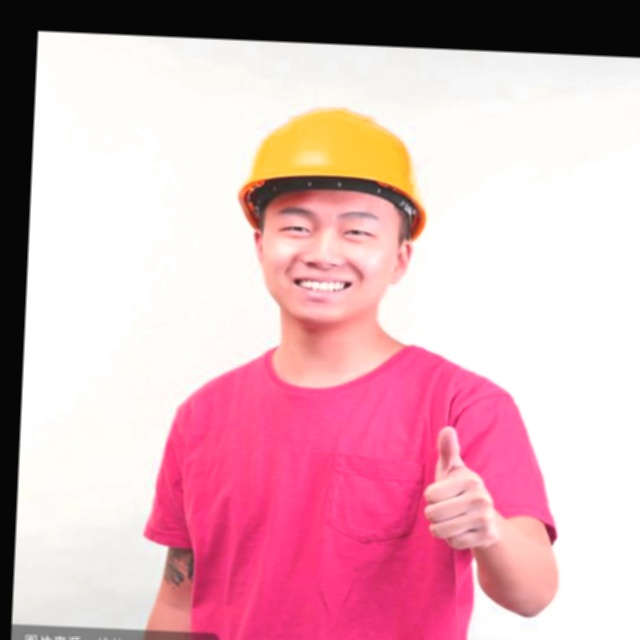Con_Casco: (230, 102, 431, 316)
Sin_Chaleco: (159, 332, 490, 640)
